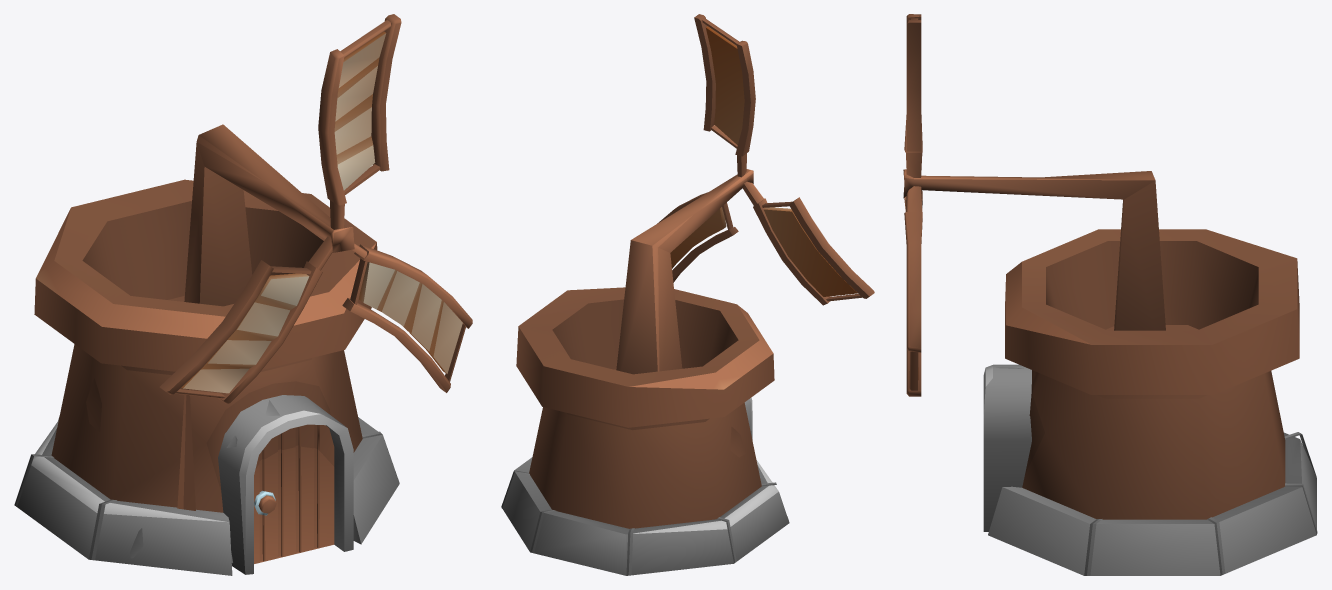
The model's file is towerlv2.glb.
The picture shows the model from 3 angles, left to right: view 1: azimuth 30°, elevation 25°; view 2: azimuth 150°, elevation 25°; view 3: azimuth 270°, elevation 25°; orthographic projection. The views are drawn at different scales.
Visible parts, largest first — view 1: towerlv2, Cube.022, Cube.017; view 2: towerlv2, Cube.022, Cube.017; view 3: towerlv2, Cube.017, Cube.022.
Boxes of the visible parts, x1,y1,x2,y2 form: towerlv2: [14, 179, 399, 575]; Cube.022: [159, 14, 472, 403]; Cube.017: [184, 124, 354, 306]; towerlv2: [501, 287, 789, 575]; Cube.022: [657, 14, 874, 305]; Cube.017: [616, 169, 753, 374]; towerlv2: [983, 229, 1317, 575]; Cube.017: [903, 169, 1165, 330]; Cube.022: [904, 14, 922, 396].
Size of the model in its own units: 3.62 by 5.86 by 4.29.
1 material, 1 textured.
